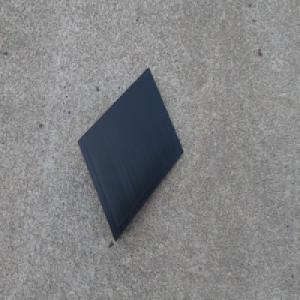PlasticPart: (76, 65, 184, 243)
